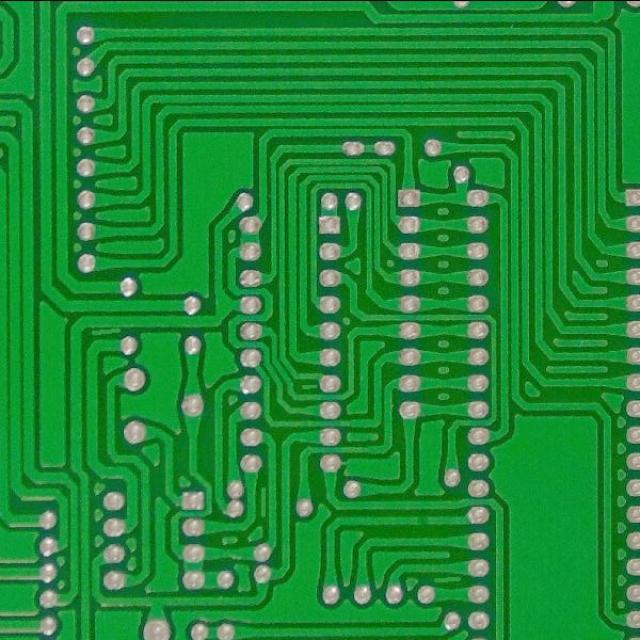Spurious_Cooper: (431, 572, 464, 586), (257, 482, 269, 520), (89, 325, 122, 337), (299, 381, 319, 391)
